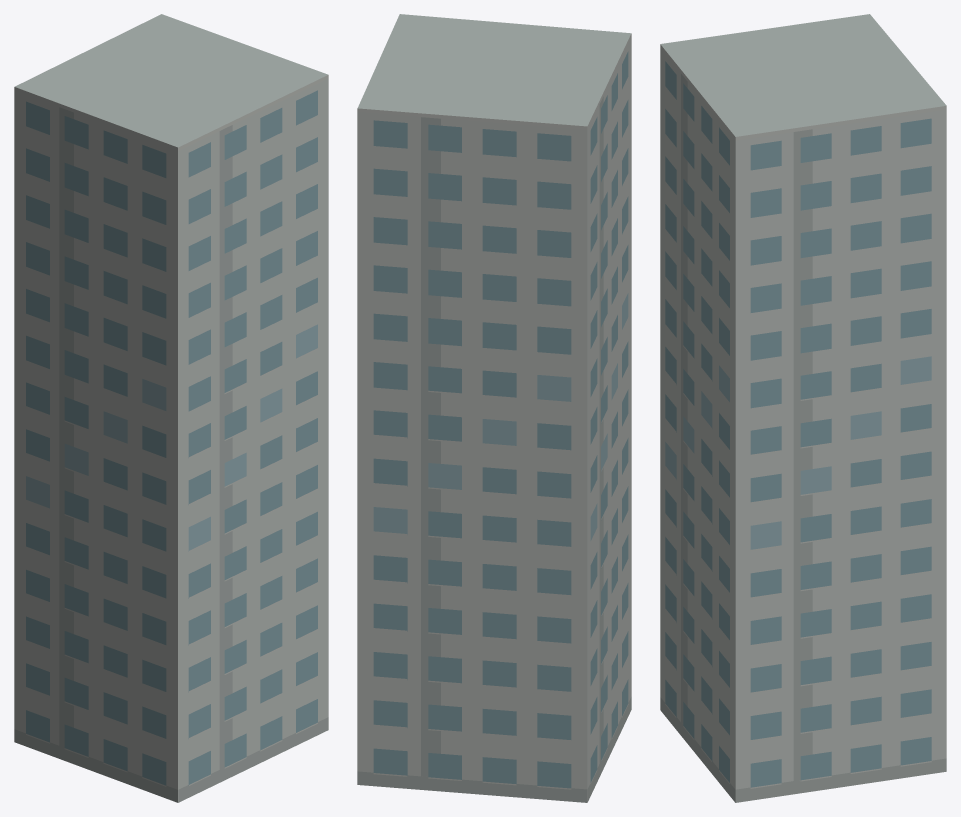
File: residential-2b783a50-f34d-4210-847c-b7766eef95d8.glb
The picture shows the model from 3 angles, left to right: view 1: azimuth 30°, elevation 25°; view 2: azimuth 150°, elevation 25°; view 3: azimuth 270°, elevation 25°; orthographic projection. The views are drawn at different scales.
Visible parts, largest first — view 1: residential-2b783a50-f34d-4210-847c-b7766eef95d8.tmp; view 2: residential-2b783a50-f34d-4210-847c-b7766eef95d8.tmp; view 3: residential-2b783a50-f34d-4210-847c-b7766eef95d8.tmp.
Part boxes in pixels (x1=…): residential-2b783a50-f34d-4210-847c-b7766eef95d8.tmp: x1=14, y1=14, x2=328, y2=802; residential-2b783a50-f34d-4210-847c-b7766eef95d8.tmp: x1=357, y1=14, x2=631, y2=802; residential-2b783a50-f34d-4210-847c-b7766eef95d8.tmp: x1=660, y1=14, x2=946, y2=802.
Size of the model in its own units: 17.43 by 44 by 17.17.
